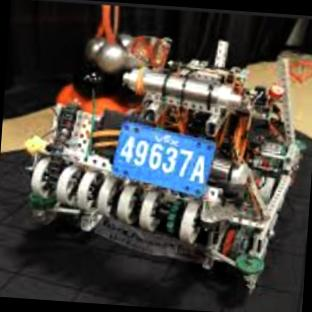Robot: (26, 38, 301, 291)
